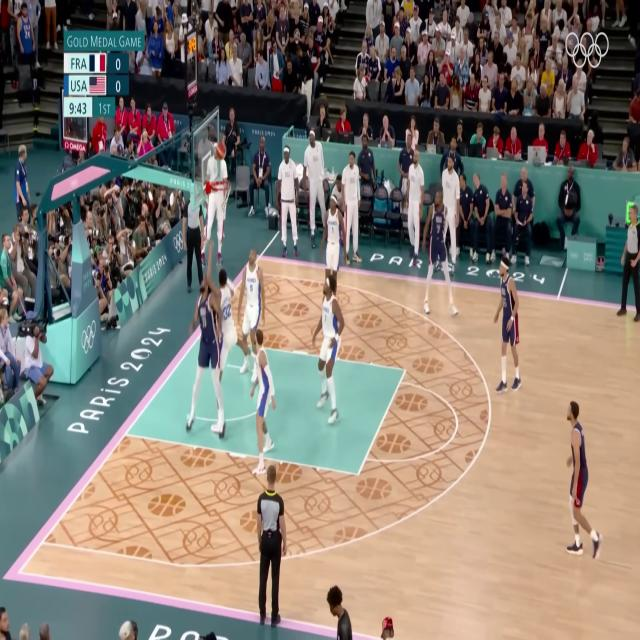player: (558, 398, 603, 566), (194, 261, 223, 457), (309, 272, 343, 433), (420, 190, 458, 321), (493, 260, 526, 402), (246, 316, 274, 481), (210, 259, 242, 398), (236, 237, 265, 385), (321, 191, 345, 319)
